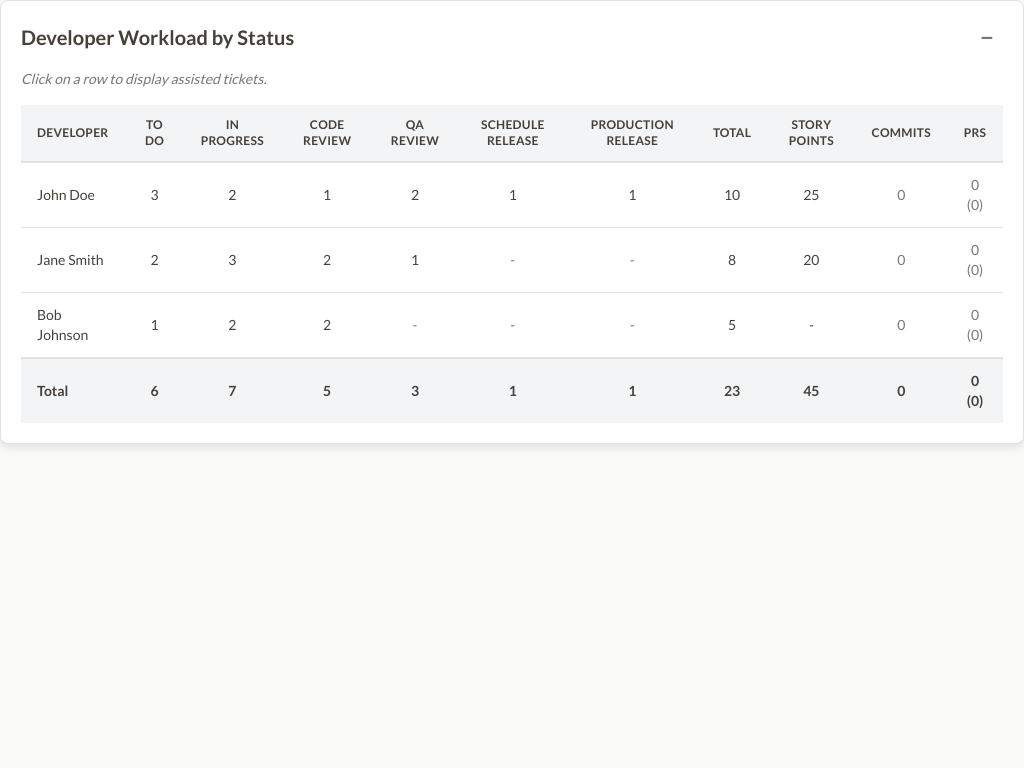
Test: DeveloperWorkload › should expand developer row when clicked
This screenshot has width=1024, height=768.
What coordinates should you click on to do the following:
click the text "John Doe"
I would click on:
 (512, 195)
Its box is [21,162,1003,228].
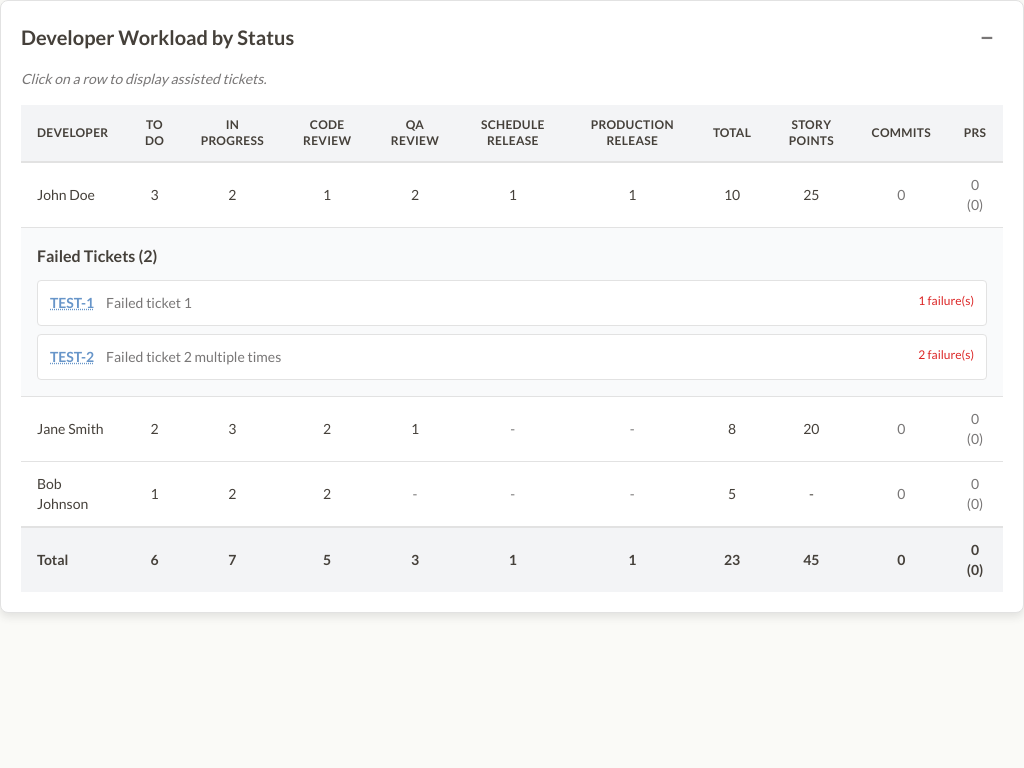
Expected: the heading "Failed Tickets (2)" is shown, [37,246,157,265]
